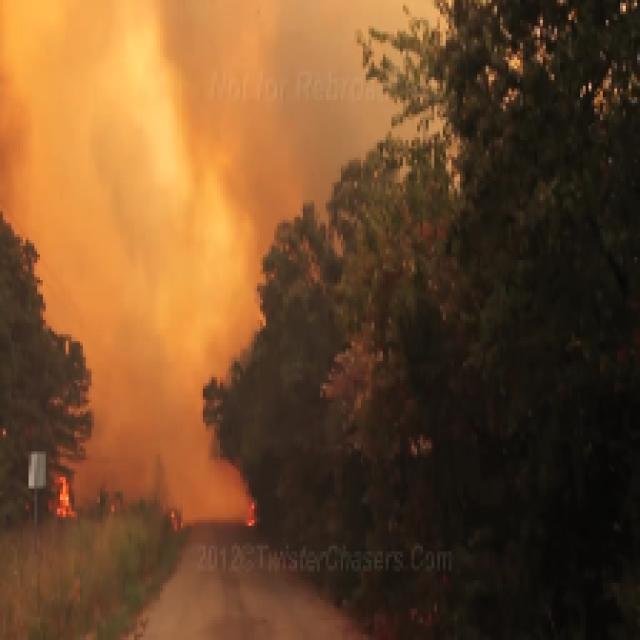Fire: (46, 466, 88, 526)
Smoke: (0, 0, 314, 525), (0, 0, 460, 283)
